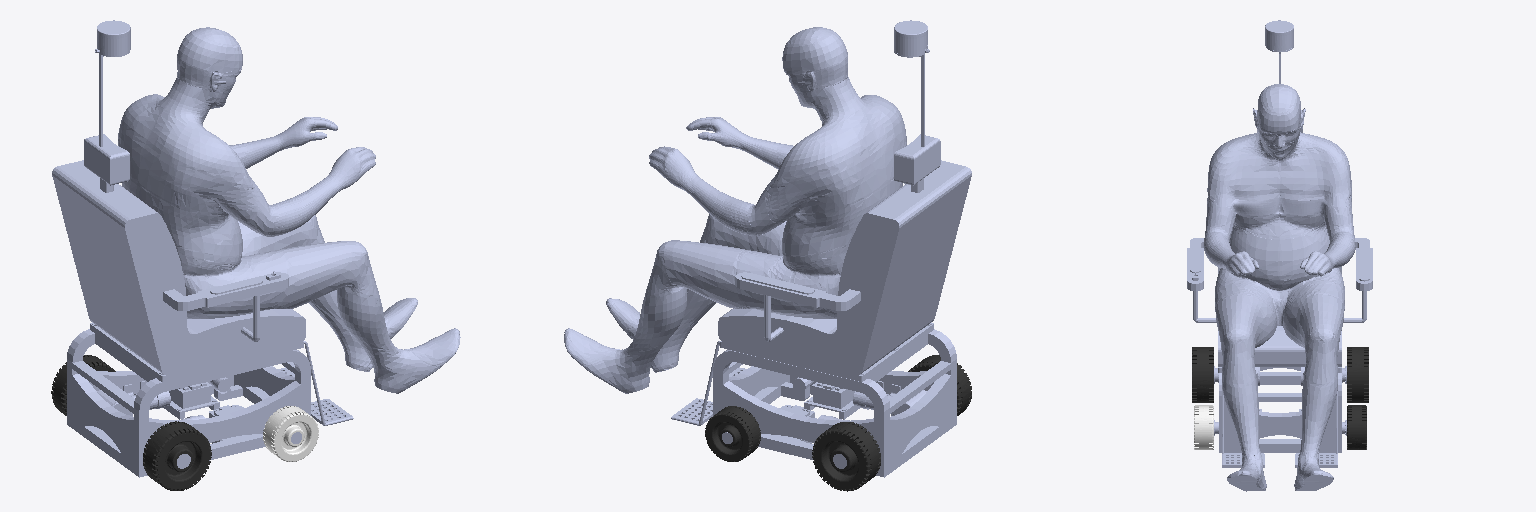
The robot description file, URDF, robot "wheelchair":
<?xml version="1.0" encoding="utf-8"?>
<!-- This URDF was automatically created by SolidWorks to URDF Exporter! Originally created by [author] ([email redacted]) 
     Commit Version: 1.6.0-4-g7f85cfe  Build Version: 1.6.7995.38578
     For more information, please see http://wiki.ros.org/sw_urdf_exporter -->
<robot
  name="wheelchair">
  <link
    name="base_link">
    <inertial>
      <origin
        xyz="-0.0776996596788162 0.234803664226308 0.600991954381718"
        rpy="0 0 0" />
      <mass
        value="98.7152301309315" />
      <inertia
        ixx="3.96388155541818"
        ixy="1.14964171081817"
        ixz="0.00612644036675662"
        iyy="5.29576019975943"
        iyz="-0.00406848391148331"
        izz="5.19553156553935" />
    </inertial>
    <visual>
      <origin
        xyz="0 0 0"
        rpy="0 0 0" />
      <geometry>
        <mesh
          filename="package://wheelchair/meshes/base_link.STL" />
      </geometry>
      <material
        name="">
        <color
          rgba="0.792156862745098 0.819607843137255 0.933333333333333 1" />
      </material>
    </visual>
    <collision>
      <origin
        xyz="0 0 0"
        rpy="0 0 0" />
      <geometry>
        <mesh
          filename="package://wheelchair/meshes/base_link.STL" />
      </geometry>
    </collision>
  </link>
  <link
    name="laser_link">
    <inertial>
      <origin
        xyz="-0.00034387 0.036297 3.2869E-06"
        rpy="0 0 0" />
      <mass
        value="0.60561" />
      <inertia
        ixx="0.00066704"
        ixy="1.8129E-06"
        ixz="1.7526E-11"
        iyy="0.00080407"
        iyz="6.6764E-08"
        izz="0.00067092" />
    </inertial>
    <visual>
      <origin
        xyz="0 0 0"
        rpy="0 0 0" />
      <geometry>
        <mesh
          filename="package://wheelchair/meshes/laser_link.STL" />
      </geometry>
      <material
        name="">
        <color
          rgba="0.79216 0.81961 0.93333 1" />
      </material>
    </visual>
    <collision>
      <origin
        xyz="0 0 0"
        rpy="0 0 0" />
      <geometry>
        <mesh
          filename="package://wheelchair/meshes/laser_link.STL" />
      </geometry>
    </collision>
  </link>
  <joint
    name="laser_joint"
    type="fixed">
    <origin
      xyz="-0.29009 -0.60303 1.1909"
      rpy="1.5708 0 3.1416" />
    <parent
      link="base_link" />
    <child
      link="laser_link" />
    <axis
      xyz="0 0 0" />
  </joint>
  <link
    name="imu_link">
    <inertial>
      <origin
        xyz="0.022 0.0051671 0.012"
        rpy="0 0 0" />
      <mass
        value="0.0094947" />
      <inertia
        ixx="5.8167E-07"
        ixy="1.4095E-22"
        ixz="8.9443E-23"
        iyy="2.0583E-06"
        iyz="-2.353E-23"
        izz="1.7103E-06" />
    </inertial>
    <visual>
      <origin
        xyz="0 0 0"
        rpy="0 0 0" />
      <geometry>
        <mesh
          filename="package://wheelchair/meshes/imu_link.STL" />
      </geometry>
      <material
        name="">
        <color
          rgba="0.79216 0.81961 0.93333 1" />
      </material>
    </visual>
    <collision>
      <origin
        xyz="0 0 0"
        rpy="0 0 0" />
      <geometry>
        <mesh
          filename="package://wheelchair/meshes/imu_link.STL" />
      </geometry>
    </collision>
  </link>
  <joint
    name="imu_joint"
    type="fixed">
    <origin
      xyz="0.075361 -0.88946 0.45753"
      rpy="1.5708 0 0" />
    <parent
      link="base_link" />
    <child
      link="imu_link" />
    <axis
      xyz="0 0 0" />
  </joint>
  <link
    name="wheel_back_one">
    <inertial>
      <origin
        xyz="-0.04 -1.1102E-16 3.4903E-15"
        rpy="0 0 0" />
      <mass
        value="1.7338" />
      <inertia
        ixx="0.010388"
        ixy="1.7449E-18"
        ixz="9.5785E-19"
        iyy="0.0060348"
        iyz="3.9031E-18"
        izz="0.0060348" />
    </inertial>
    <visual>
      <origin
        xyz="0 0 0"
        rpy="0 0 0" />
      <geometry>
        <mesh
          filename="package://wheelchair/meshes/wheel_back_one.STL" />
      </geometry>
      <material
        name="">
        <color
          rgba="0.25098 0.25098 0.25098 1" />
      </material>
    </visual>
    <collision>
      <origin
        xyz="0 0 0"
        rpy="0 0 0" />
      <geometry>
        <mesh
          filename="package://wheelchair/meshes/wheel_back_one.STL" />
      </geometry>
    </collision>
  </link>
  <joint
    name="wheel_bo"
    type="continuous">
    <origin
      xyz="-0.22501 -0.8357 -0.074094"
      rpy="2.869 0 1.5708" />
    <parent
      link="base_link" />
    <child
      link="wheel_back_one" />
    <axis
      xyz="1 0 0" />
  </joint>
  <link
    name="wheel_back_two">
    <inertial>
      <origin
        xyz="0.04 2.498E-16 -1.3878E-16"
        rpy="0 0 0" />
      <mass
        value="1.7338" />
      <inertia
        ixx="0.010388"
        ixy="-8.8954E-19"
        ixz="-1.1797E-18"
        iyy="0.0060348"
        iyz="4.7705E-18"
        izz="0.0060348" />
    </inertial>
    <visual>
      <origin
        xyz="0 0 0"
        rpy="0 0 0" />
      <geometry>
        <mesh
          filename="package://wheelchair/meshes/wheel_back_two.STL" />
      </geometry>
      <material
        name="">
        <color
          rgba="0.25098 0.25098 0.25098 1" />
      </material>
    </visual>
    <collision>
      <origin
        xyz="0 0 0"
        rpy="0 0 0" />
      <geometry>
        <mesh
          filename="package://wheelchair/meshes/wheel_back_two.STL" />
      </geometry>
    </collision>
  </link>
  <joint
    name="wheel_bt"
    type="continuous">
    <origin
      xyz="-0.22501 -0.2843 -0.074094"
      rpy="-2.5998 0 -1.5708" />
    <parent
      link="base_link" />
    <child
      link="wheel_back_two" />
    <axis
      xyz="1 0 0" />
  </joint>
  <link
    name="wheel_front_one">
    <inertial>
      <origin
        xyz="-0.035 1.2629E-15 -2.0817E-15"
        rpy="0 0 0" />
      <mass
        value="1.0384" />
      <inertia
        ixx="0.0038781"
        ixy="1.0574E-17"
        ixz="6.822E-18"
        iyy="0.0023093"
        iyz="3.2861E-17"
        izz="0.0023093" />
    </inertial>
    <visual>
      <origin
        xyz="0 0 0"
        rpy="0 0 0" />
      <geometry>
        <mesh
          filename="package://wheelchair/meshes/wheel_front_one.STL" />
      </geometry>
      <material
        name="">
        <color
          rgba="0.25098 0.25098 0.25098 1" />
      </material>
    </visual>
    <collision>
      <origin
        xyz="0 0 0"
        rpy="0 0 0" />
      <geometry>
        <mesh
          filename="package://wheelchair/meshes/wheel_front_one.STL" />
      </geometry>
    </collision>
  </link>
  <joint
    name="wheel_fo"
    type="continuous">
    <origin
      xyz="0.17499 -0.293 -0.094094"
      rpy="1.5708 0 1.5708" />
    <parent
      link="base_link" />
    <child
      link="wheel_front_one" />
    <axis
      xyz="1 0 0" />
  </joint>
  <link
    name="wheel_front_two">
    <inertial>
      <origin
        xyz="0 0 0"
        rpy="0 0 0" />
      <mass
        value="0" />
      <inertia
        ixx="0"
        ixy="0"
        ixz="0"
        iyy="0"
        iyz="0"
        izz="0" />
    </inertial>
    <visual>
      <origin
        xyz="0 0 0"
        rpy="0 0 0" />
      <geometry>
        <mesh
          filename="package://wheelchair/meshes/wheel_front_two.STL" />
      </geometry>
      <material
        name="">
        <color
          rgba="1 1 1 1" />
      </material>
    </visual>
    <collision>
      <origin
        xyz="0 0 0"
        rpy="0 0 0" />
      <geometry>
        <mesh
          filename="package://wheelchair/meshes/wheel_front_two.STL" />
      </geometry>
    </collision>
  </link>
  <joint
    name="wheel_ft"
    type="continuous">
    <origin
      xyz="0.17499 -0.837 -0.094094"
      rpy="-2.3112 0 -1.5708" />
    <parent
      link="base_link" />
    <child
      link="wheel_front_two" />
    <axis
      xyz="1 0 0" />
  </joint>
</robot>

--- What the picture shows (computed from the rendered views, not written in the file) ---
3 views of the same robot in one strip: view 1: azimuth 30°, elevation 25°; view 2: azimuth 150°, elevation 25°; view 3: azimuth 270°, elevation 25° (orthographic).
Robot: wheelchair — 7 links, 6 joints (4 continuous, 2 fixed); root link base_link; default pose: all joints at 0.
Visible links, largest first — view 1: base_link, wheel_back_one, wheel_front_two, laser_link, wheel_back_two; view 2: base_link, wheel_back_two, wheel_front_one, laser_link, wheel_back_one; view 3: base_link, wheel_back_one, wheel_back_two, wheel_front_one, wheel_front_two, laser_link.
Boxes of the visible links, <box> form: base_link: <box>52,27,460,477</box>; wheel_back_one: <box>143,421,211,490</box>; wheel_front_two: <box>263,406,318,461</box>; laser_link: <box>95,20,130,55</box>; wheel_back_two: <box>51,355,115,415</box>; base_link: <box>564,27,971,477</box>; wheel_back_two: <box>812,422,880,491</box>; wheel_front_one: <box>705,406,760,461</box>; laser_link: <box>894,20,929,55</box>; wheel_back_one: <box>908,355,971,415</box>; base_link: <box>1187,47,1372,491</box>; wheel_back_one: <box>1192,347,1213,402</box>; wheel_back_two: <box>1347,347,1368,402</box>; wheel_front_one: <box>1347,405,1366,449</box>; wheel_front_two: <box>1194,405,1213,449</box>; laser_link: <box>1265,20,1293,50</box>.
Size in the robot's own frame: 1.22 by 0.66 by 1.44 metres.
Meshes: 7 distinct files referenced, 7 mesh visuals loaded (7 binary STL).